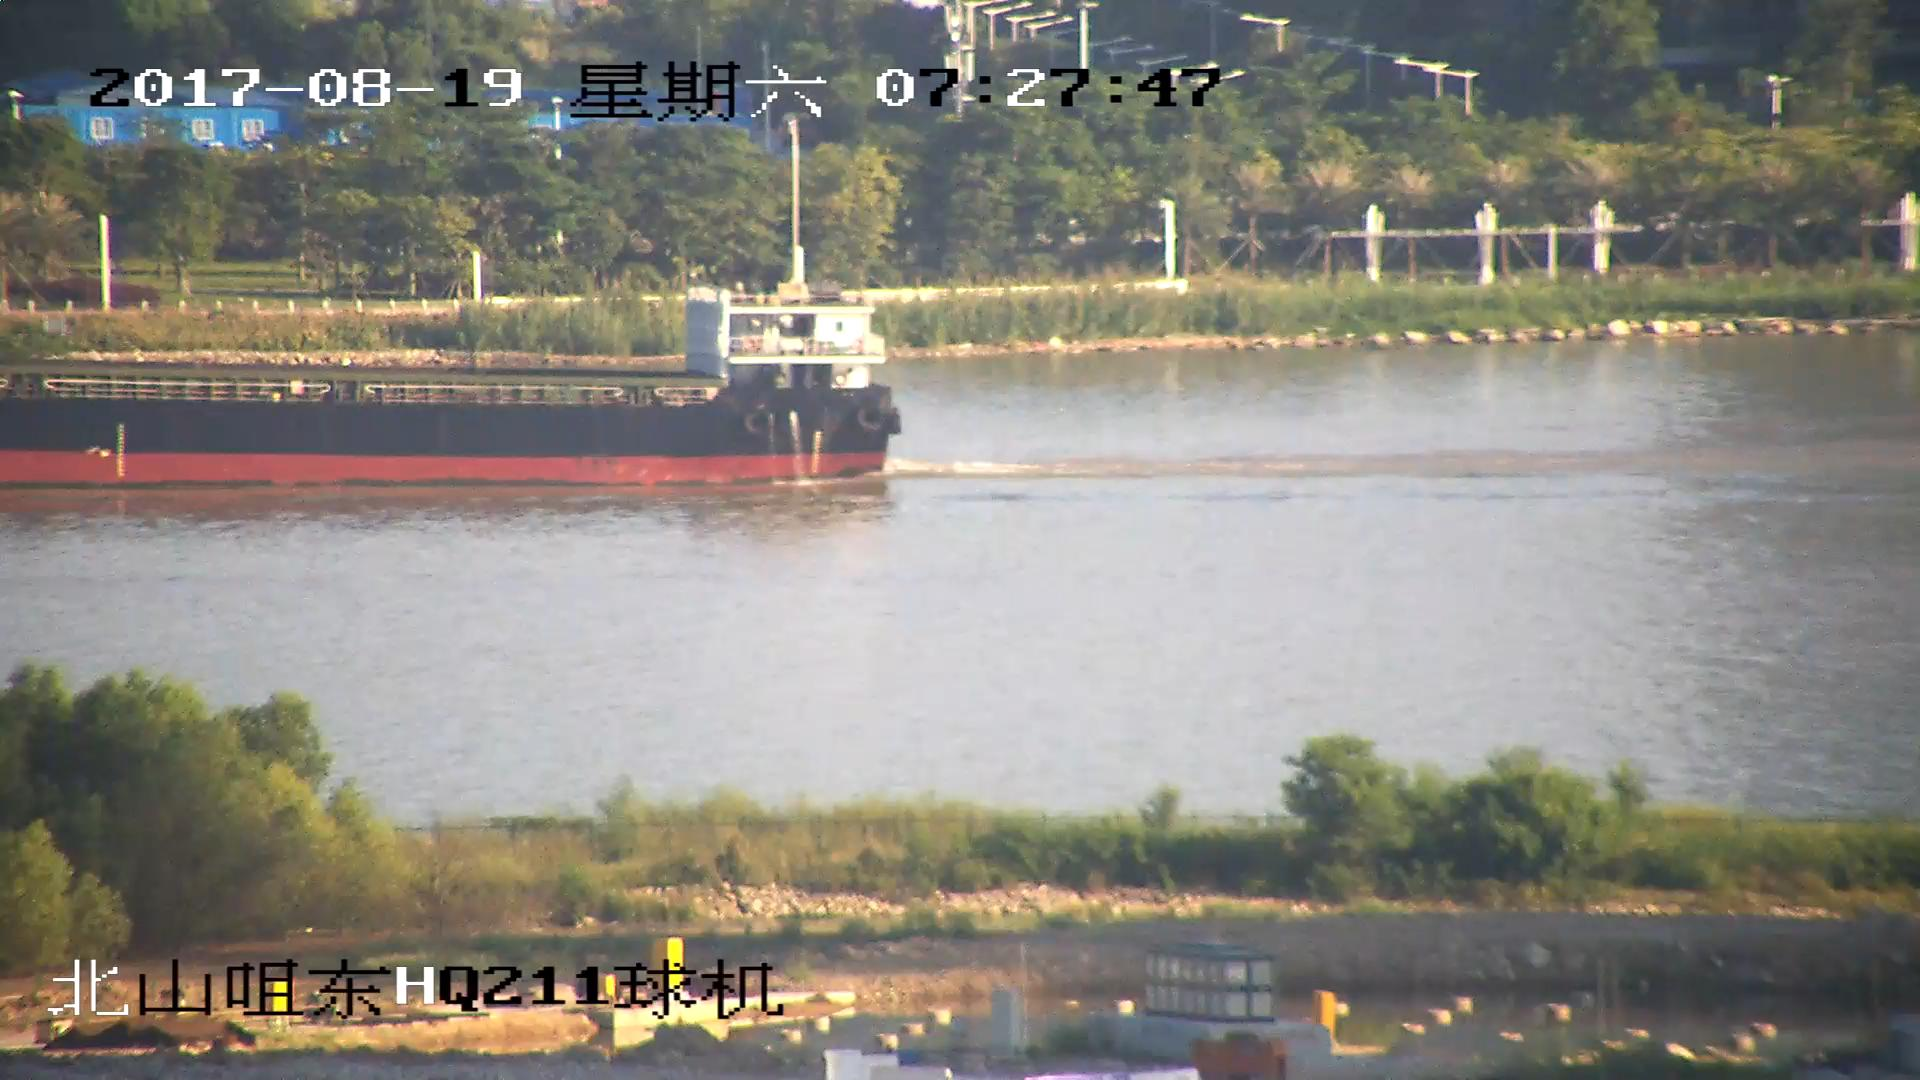general cargo ship: (1, 292, 905, 492)
